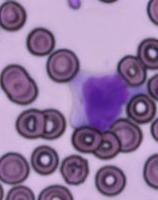M: (67, 70, 134, 133)
